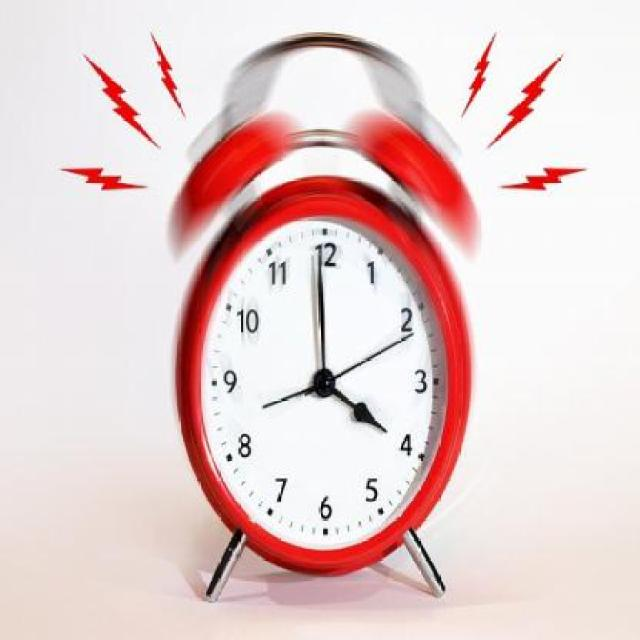clock: (200, 217, 448, 551)
